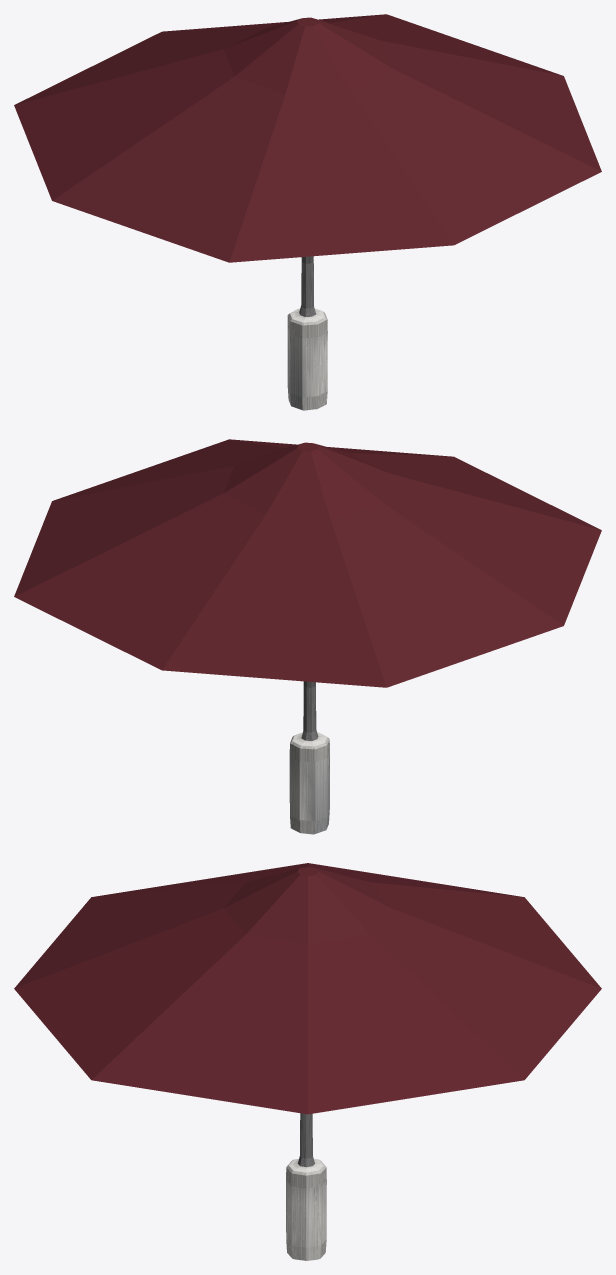
Rendered from Sombrilla.fbx.
3 renders of one model, top to bottom at view 1: azimuth 30°, elevation 25°; view 2: azimuth 150°, elevation 25°; view 3: azimuth 270°, elevation 25°, orthographic.
Parts seen in each view (by area): view 1: Cube.001, Cube; view 2: Cube.001, Cube; view 3: Cube.001, Cube.
Part boxes in pixels (<box>): Cube.001: <box>14,14,601,262</box>; Cube: <box>287,256,327,410</box>; Cube.001: <box>14,439,601,687</box>; Cube: <box>289,681,329,834</box>; Cube.001: <box>14,863,601,1114</box>; Cube: <box>286,1113,326,1260</box>.
Size of the model in its own units: 452 by 322 by 447.
2 materials, 1 textured.
